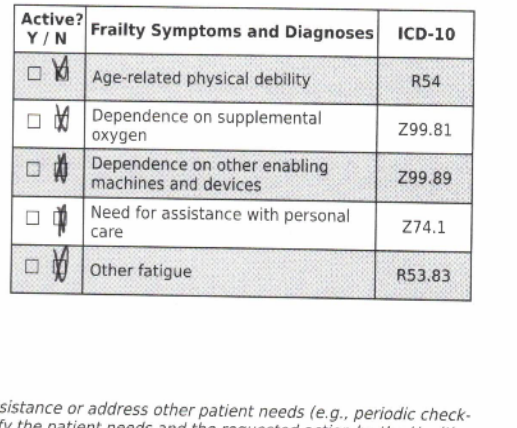checked: (47, 201, 77, 237), (49, 245, 70, 286), (51, 55, 74, 89), (51, 103, 74, 137), (51, 154, 75, 186)
